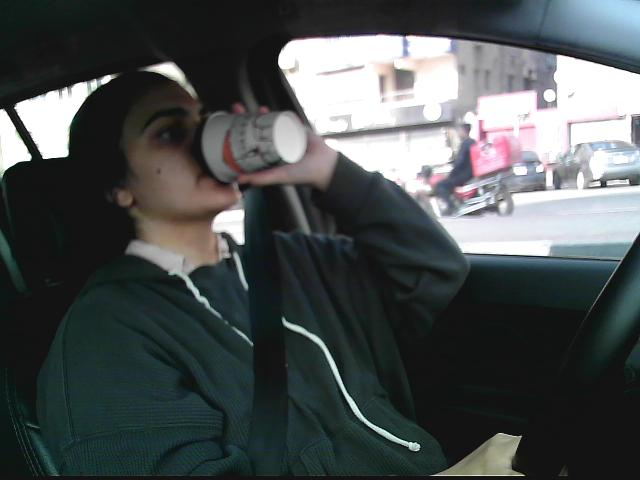Drinking: (190, 103, 303, 186)
